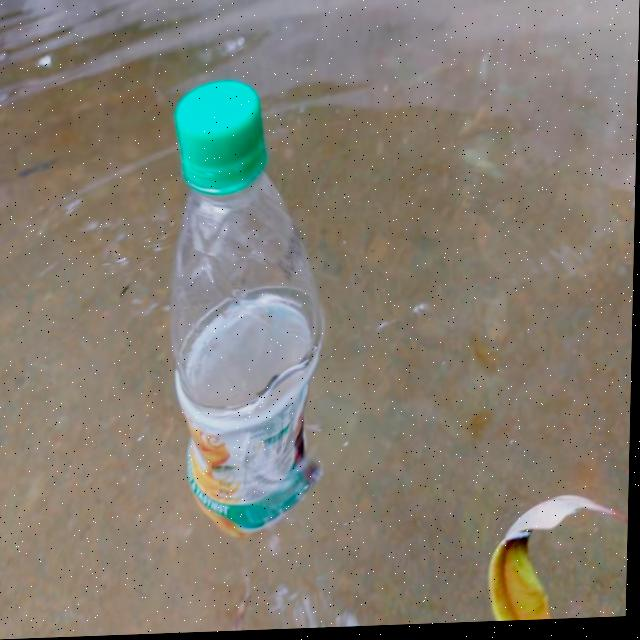leaf: (468, 470, 631, 626)
waterbottle: (144, 82, 348, 531)
